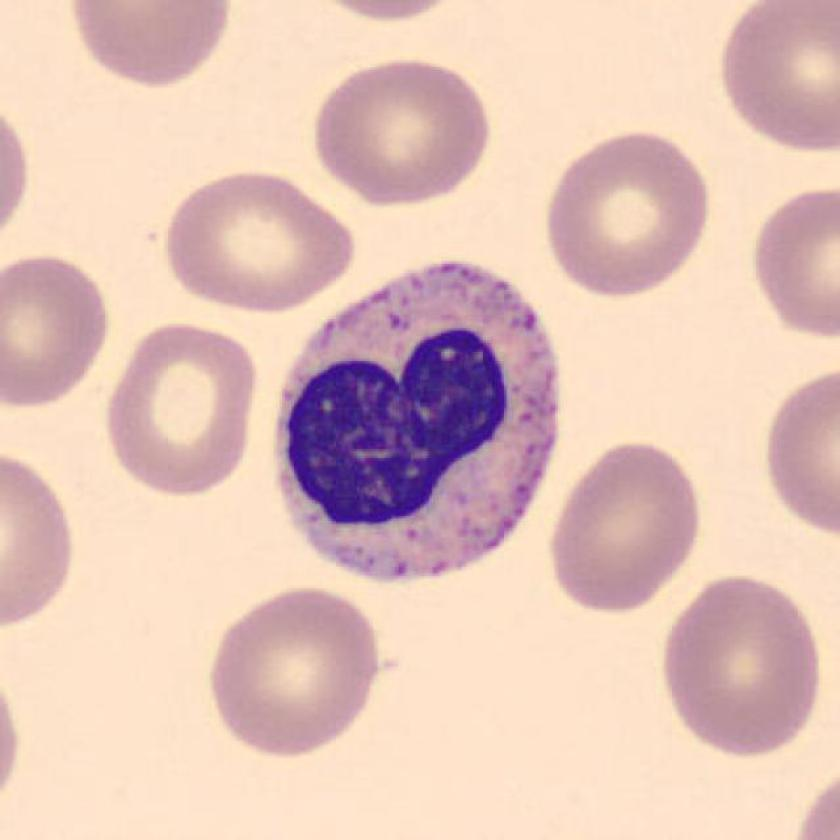neutrophil: (278, 264, 555, 581)
